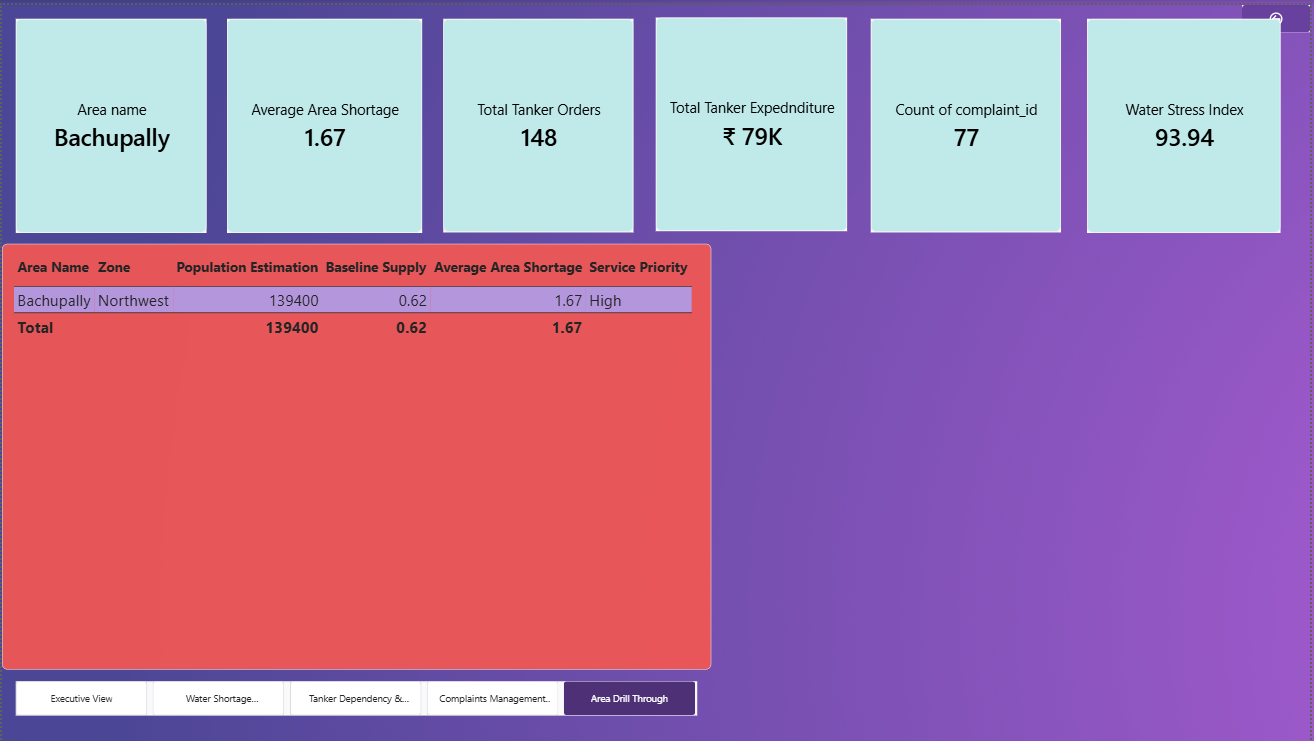

The page's visual inventory and layout, read from the dashboard file:
{"tool":"powerbi","page":{"name":"Area Drill Through ","canvas":[1920,1080],"ordinal":4},"visuals":[{"type":"cardVisual","fields":{"Data":["Min(aqua_watch areas.Area_name)"]},"box":[20.4,20.4,280,314],"z":0},{"type":"actionButton","box":[1820.4,0,100,40],"z":1000},{"type":"cardVisual","fields":{"Data":["aqua_watch areas.Average Area Shortage"]},"box":[330,20,286,314],"z":2000},{"type":"cardVisual","fields":{"Data":["aqua_watch tanker_orders.Total Tanker Orders"]},"box":[648,20,279.2,313.4],"z":3000},{"type":"cardVisual","fields":{"Data":["aqua_watch tanker_orders.Total Tanker Expednditure"]},"box":[960,18,281.1,313.4],"z":4000},{"type":"cardVisual","fields":{"Data":["CountNonNull(aqua_watch complaints.complaint_id)"]},"box":[1274,20,279.2,313.4],"z":5000},{"type":"cardVisual","fields":{"Data":["aqua_watch supply_daily.Water Stress Index"]},"box":[1592,20,284,314],"z":6000},{"type":"tableEx","fields":{"Values":["aqua_watch areas.Area_name","aqua_watch areas.Zone","Sum(aqua_watch areas.Population_estimate)","Sum(aqua_watch areas.Baseline_supply_reliability)","aqua_watch areas.Average Area Shortage","aqua_watch areas.Service_priority"]},"box":[0,351,1040.8,624.5],"z":7000},{"type":"pageNavigator","box":[20.9,991.5,1000,50],"z":8000}]}

Visuals, with their boxes in screenshot pixels (x1, y1, x2, y2), scaled from the page's 1920x1080 canvas onto the 1314x741 screenshot:
cardVisual - Min(aqua_watch areas.Area_name): 14,14,206,229
actionButton: 1246,0,1313,27
cardVisual - aqua_watch areas.Average Area Shortage: 226,14,422,229
cardVisual - aqua_watch tanker_orders.Total Tanker Orders: 443,14,635,229
cardVisual - aqua_watch tanker_orders.Total Tanker Expednditure: 657,12,849,227
cardVisual - CountNonNull(aqua_watch complaints.complaint_id): 872,14,1063,229
cardVisual - aqua_watch supply_daily.Water Stress Index: 1090,14,1284,229
tableEx - aqua_watch areas.Area_name x aqua_watch areas.Zone: 0,241,712,669
pageNavigator: 14,680,699,715
